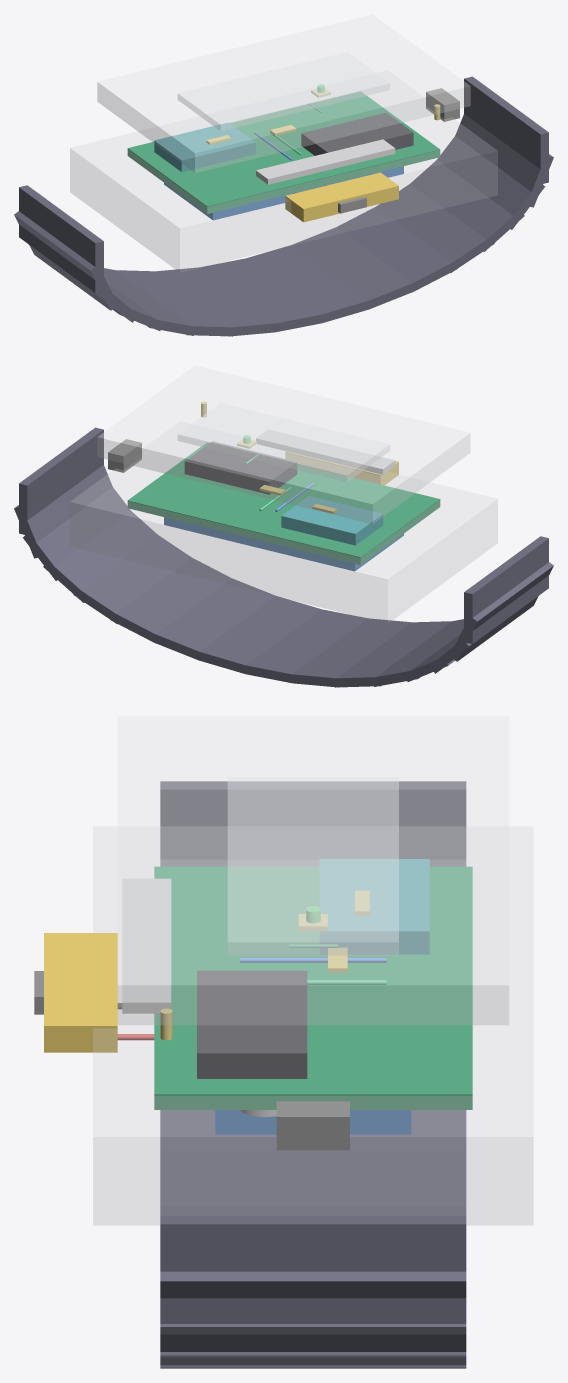
Rendered from tbay-bracelet.gltf.
The picture shows the model from 3 angles, top to bottom: view 1: azimuth 30°, elevation 25°; view 2: azimuth 150°, elevation 25°; view 3: azimuth 270°, elevation 25°; orthographic projection. The views are drawn at different scales.
Visible parts, largest first — view 1: Top Cover, Enclosure Base, Main PCB, Diffuser, Strap Segment 7, Strap Segment 6, Strap Segment 8, Strap Segment 5, Strap Segment 16, Strap Segment 1, Strap Segment 4, Strap Segment 9 (+13 smaller); view 2: Top Cover, Enclosure Base, Main PCB, Diffuser, Strap Segment 6, Strap Segment 7, Strap Segment 8, Strap Segment 5, Strap Segment 16, Strap Segment 4, Strap Segment 1, Strap Segment 9 (+13 smaller); view 3: Top Cover, Enclosure Base, Main PCB, Diffuser, Strap Segment 1, Strap Segment 16, Strap Segment 10, Strap Segment 2, ESP32-S3, GNSS Module, USB-C Charger, GNSS Antenna (+8 smaller).
Part boxes in pixels (x1,y1,x2,y2): Top Cover: [97, 14, 470, 172]; Enclosure Base: [70, 71, 497, 272]; Main PCB: [127, 91, 440, 213]; Diffuser: [178, 52, 389, 130]; Strap Segment 7: [292, 227, 415, 308]; Strap Segment 6: [336, 207, 457, 292]; Strap Segment 8: [246, 245, 369, 323]; Strap Segment 5: [376, 184, 494, 273]; Strap Segment 16: [19, 185, 103, 292]; Strap Segment 1: [464, 76, 548, 184]; Strap Segment 4: [410, 160, 524, 251]; Strap Segment 9: [200, 258, 321, 331]; Top Cover: [97, 365, 470, 523]; Enclosure Base: [70, 422, 497, 623]; Main PCB: [127, 442, 440, 564]; Diffuser: [178, 403, 389, 481]; Strap Segment 6: [110, 558, 231, 643]; Strap Segment 7: [156, 578, 275, 659]; Strap Segment 8: [198, 596, 321, 673]; Strap Segment 5: [73, 535, 191, 624]; Strap Segment 16: [464, 536, 548, 643]; Strap Segment 4: [43, 511, 157, 602]; Strap Segment 1: [19, 427, 103, 535]; Strap Segment 9: [245, 609, 367, 683]; Top Cover: [118, 716, 508, 1024]; Enclosure Base: [93, 826, 533, 1225]; Main PCB: [154, 866, 472, 1109]; Diffuser: [228, 777, 398, 955]; Strap Segment 1: [160, 1216, 466, 1323]; Strap Segment 16: [160, 781, 466, 859]; Strap Segment 10: [160, 1149, 466, 1205]; Strap Segment 2: [160, 1271, 466, 1351]; ESP32-S3: [197, 970, 307, 1078]; GNSS Module: [320, 859, 429, 954]; USB-C Charger: [44, 933, 117, 1052]; GNSS Antenna: [122, 878, 171, 1013].
Bounding box in the file's own units: 4.37 × 1.91 × 2.04.
